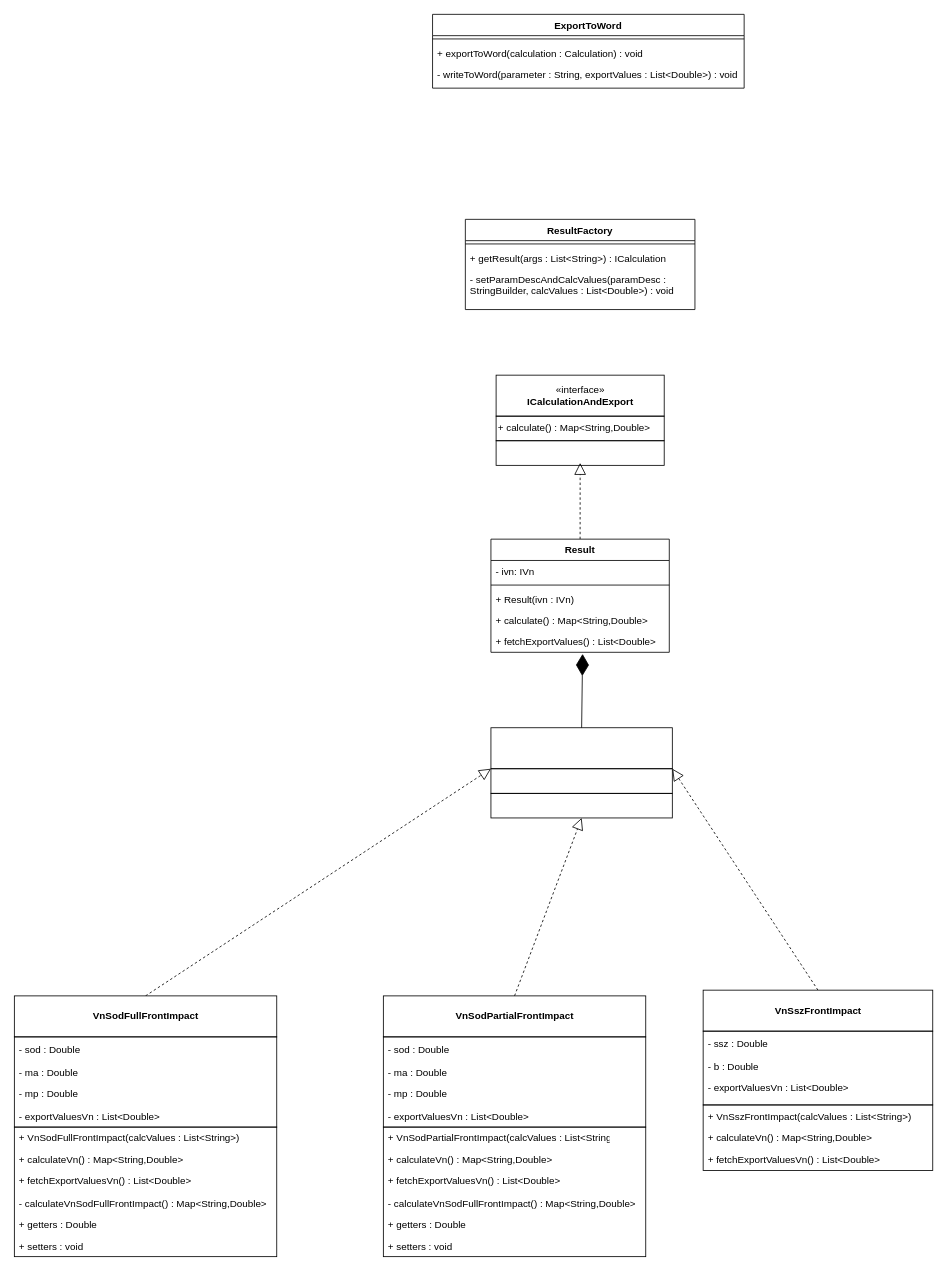
This 947x1273 diagram has some shape labels left out. The shapes that lost their labels are listed below. From the top down, each one's centre as x and y in pixels, then its label:
[579,452]: + fetchExportValues() : List<Double>
[581,748]: «interface» IVn
[581,780]: + calculateVn() : Map<String,Double>
[581,805]: + fetchExportValuesVn() : List<Double>
